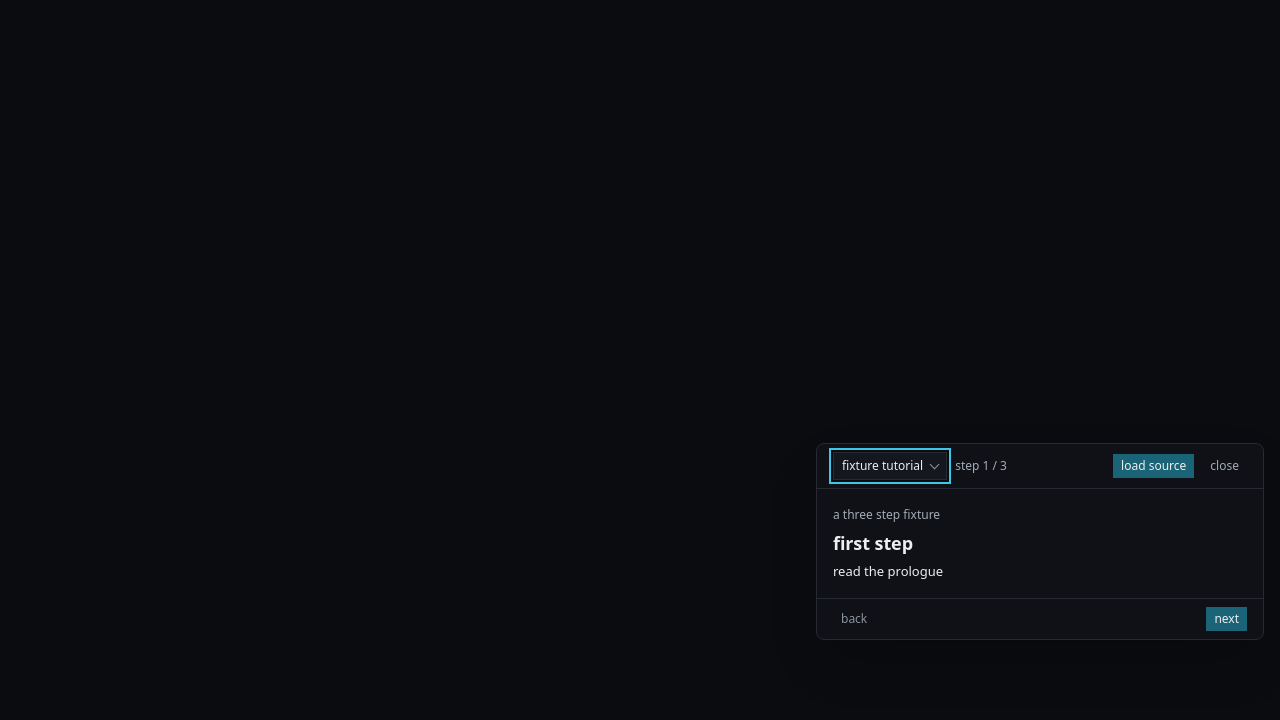
Test: TutorialRunner load source › shows a network failure's message
Click the button "load source": (1154, 466) [1113,454,1194,478]
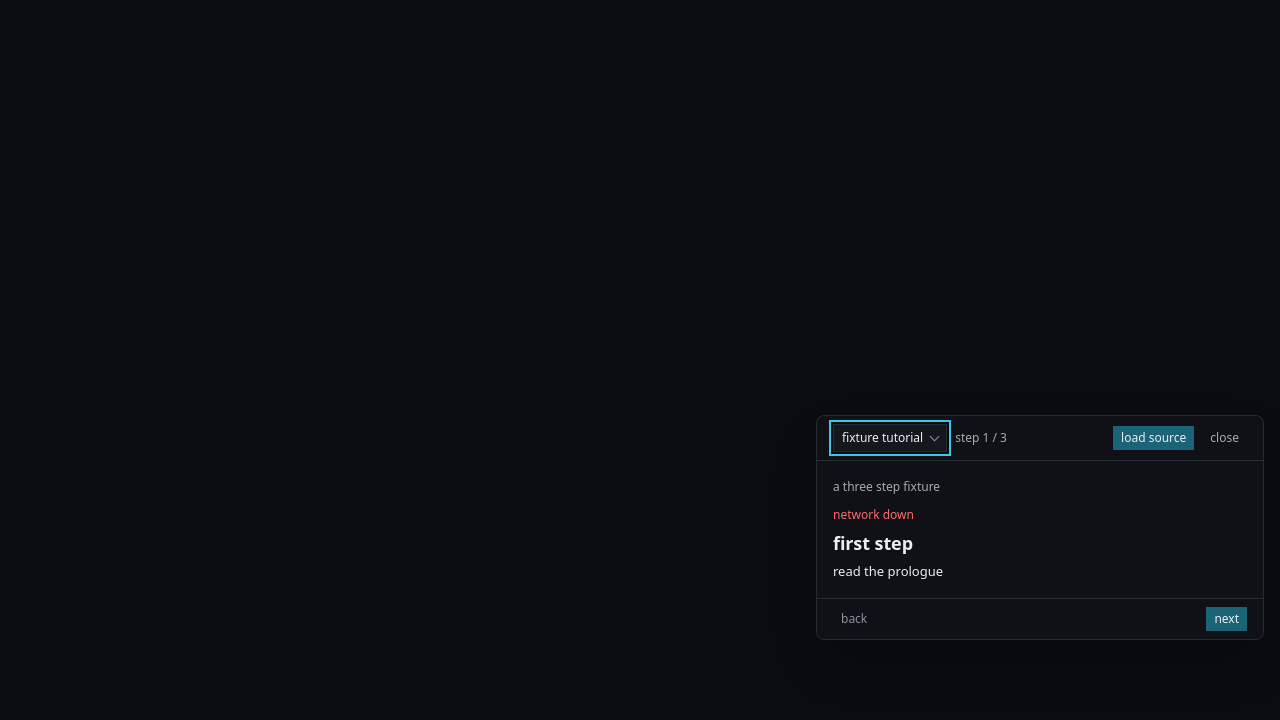
Now the message reads "network down", box [833,506,914,523]
